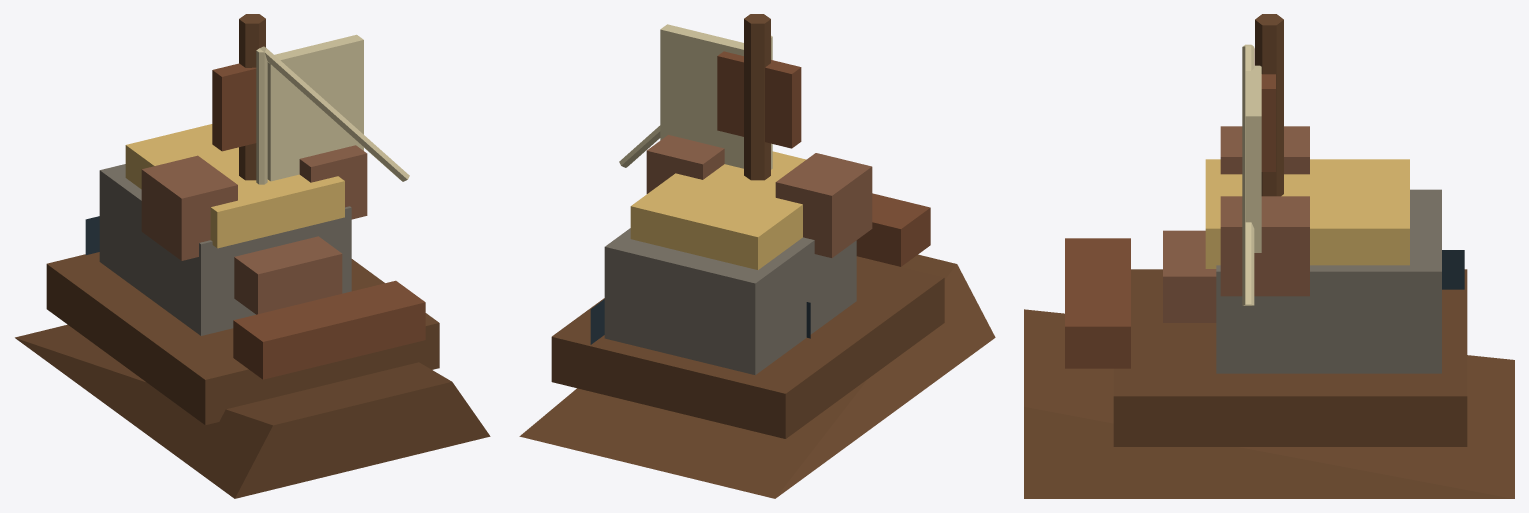
File: transport-ship.obj
3 renders of one model, left to right at view 1: azimuth 30°, elevation 25°; view 2: azimuth 150°, elevation 25°; view 3: azimuth 270°, elevation 25°, orthographic. The views are drawn at different scales.
Parts seen in each view (by area): view 1: ship; view 2: ship; view 3: ship.
Part boxes in pixels (x1,y1,x2,y2): ship: (15, 14, 490, 498); ship: (519, 14, 995, 498); ship: (1024, 14, 1514, 498).
Size of the model in its own units: 1.66 by 2.13 by 2.31.
